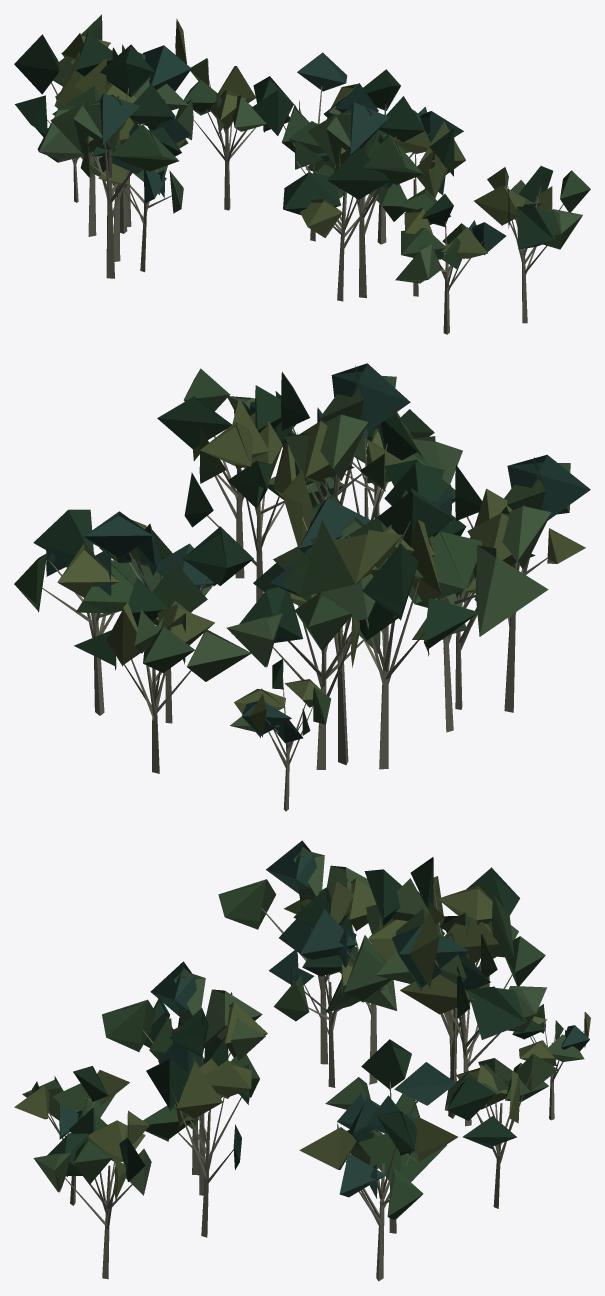
Rendered from forest_26_20.dae.
The picture shows the model from 3 angles, top to bottom: view 1: azimuth 30°, elevation 25°; view 2: azimuth 150°, elevation 25°; view 3: azimuth 270°, elevation 25°; orthographic projection. The views are drawn at different scales.
Visible parts, largest first — view 1: Node; view 2: Node; view 3: Node.
Boxes of the visible parts, x1,y1,x2,y2 form: Node: [14, 14, 590, 334]; Node: [14, 363, 590, 811]; Node: [14, 840, 590, 1281].
Bounding box in the file's own units: 7.45 × 8.31 × 4.47.
